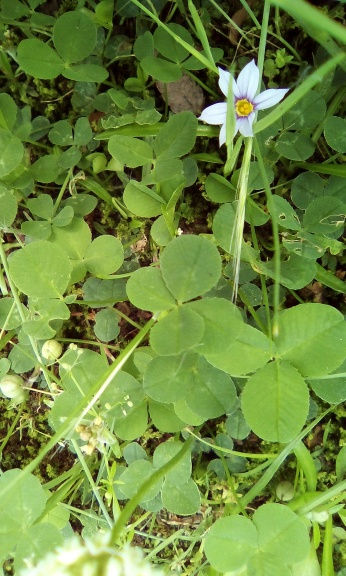4leaf: (125, 234, 244, 356)
